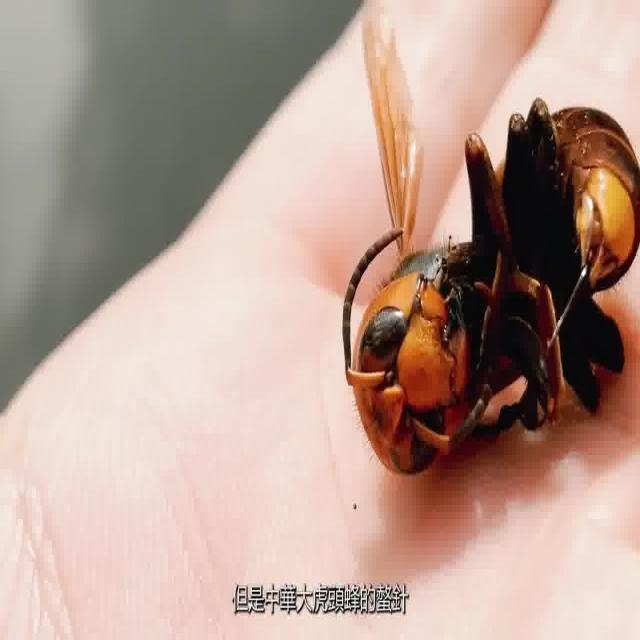Wasp: (346, 14, 637, 477)
